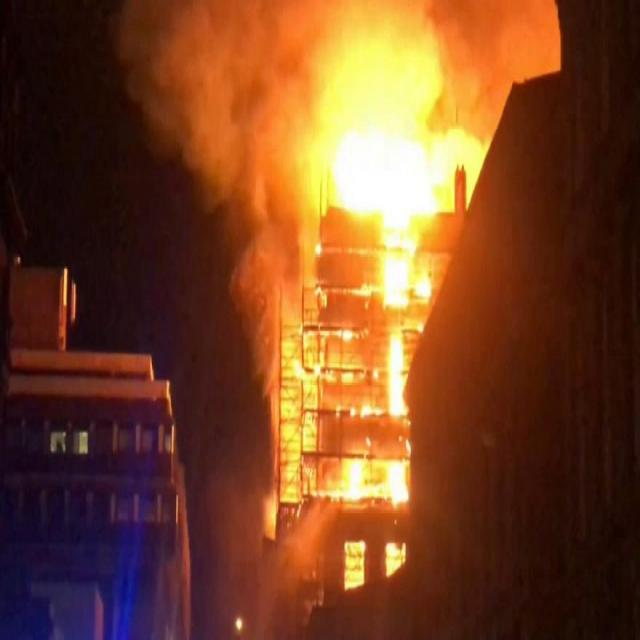Fire: (305, 112, 487, 504)
